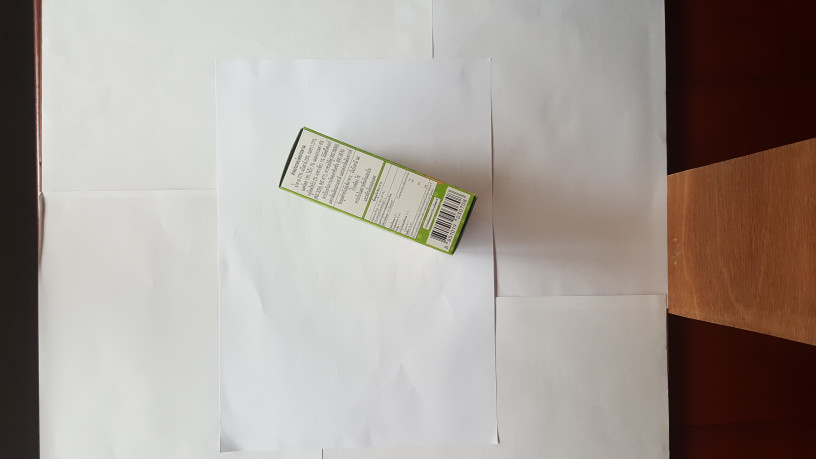collon-matcha: (278, 126, 478, 258)
